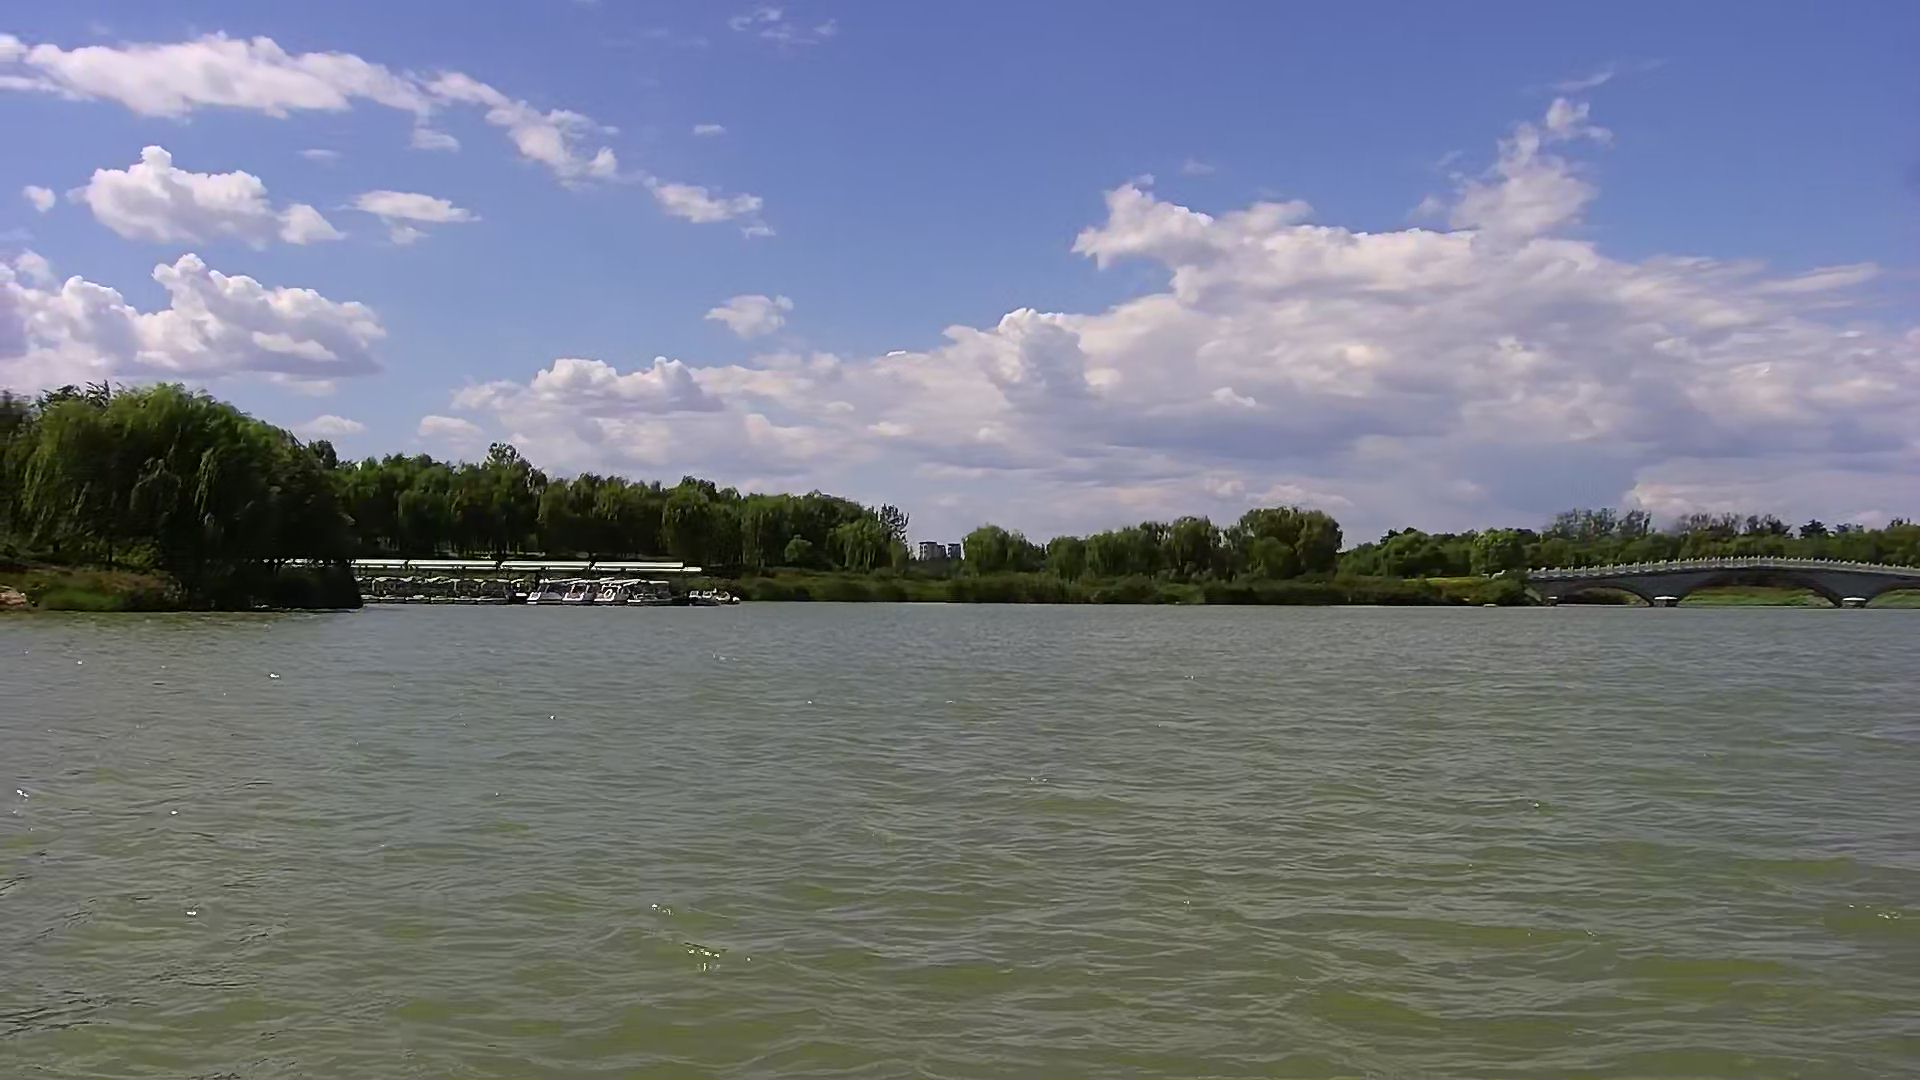bridge: (1519, 554, 1920, 607)
harbor: (355, 560, 737, 611)
